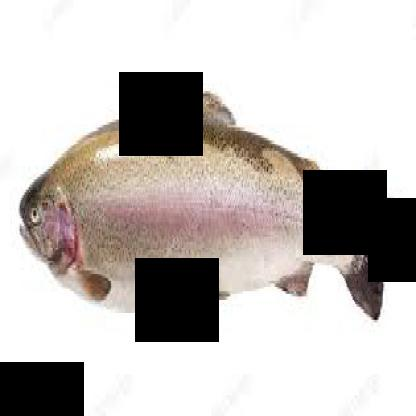fish: (18, 93, 402, 324)
